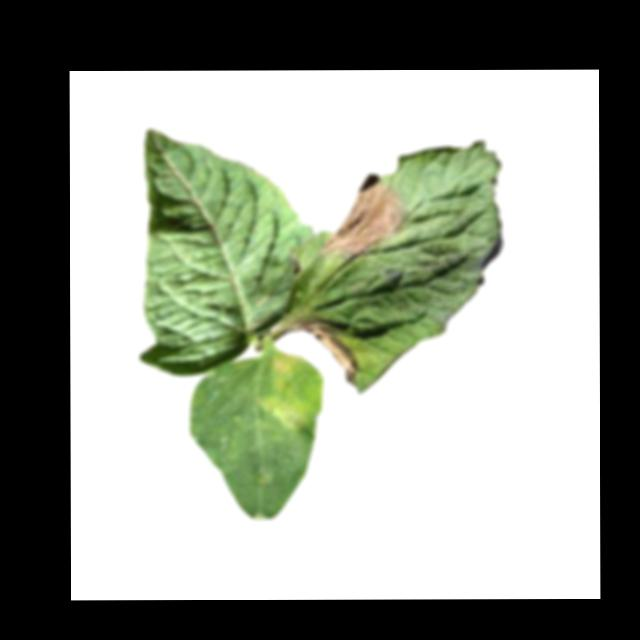Late_blight: (322, 173, 408, 258), (258, 350, 323, 431), (291, 316, 361, 387)
